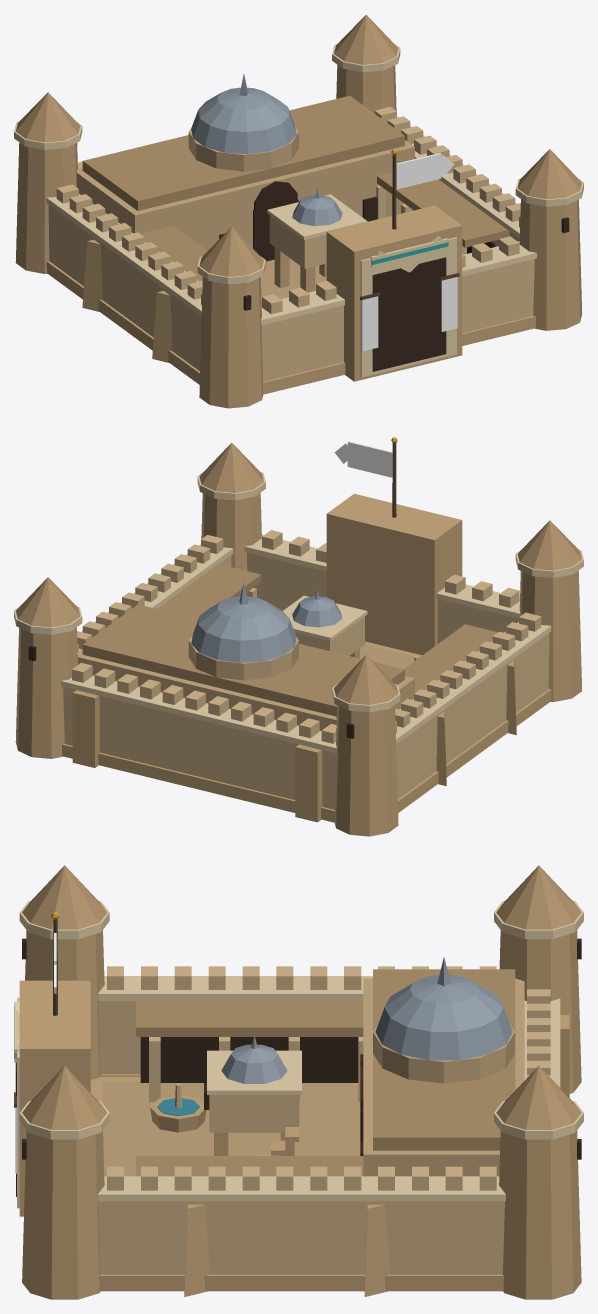
Rendered from han.glb.
The picture shows the model from 3 angles, top to bottom: view 1: azimuth 30°, elevation 25°; view 2: azimuth 150°, elevation 25°; view 3: azimuth 270°, elevation 25°; orthographic projection. The views are drawn at different scales.
Parts seen in each view (by area): view 1: han_base, han_towers_high, han_crenels, han_dome, han_banners, han_flag; view 2: han_base, han_towers_high, han_crenels, han_dome, han_flag; view 3: han_base, han_towers_high, han_dome, han_crenels.
Boxes of the visible parts, x1,y1,x2,y2 form: han_base: (46, 95, 536, 394); han_towers_high: (14, 14, 583, 408); han_crenels: (56, 107, 520, 314); han_dome: (188, 73, 298, 171); han_banners: (360, 273, 459, 351); han_flag: (391, 149, 454, 229); han_base: (61, 493, 551, 822); han_towers_high: (14, 443, 583, 836); han_crenels: (72, 530, 541, 743); han_dome: (188, 582, 298, 680); han_flag: (334, 437, 397, 517); han_base: (14, 969, 569, 1296); han_towers_high: (19, 865, 583, 1299); han_dome: (373, 956, 515, 1083); han_crenels: (107, 966, 550, 1190).
Size of the model in its own units: 11.81 by 6.29 by 12.02.
